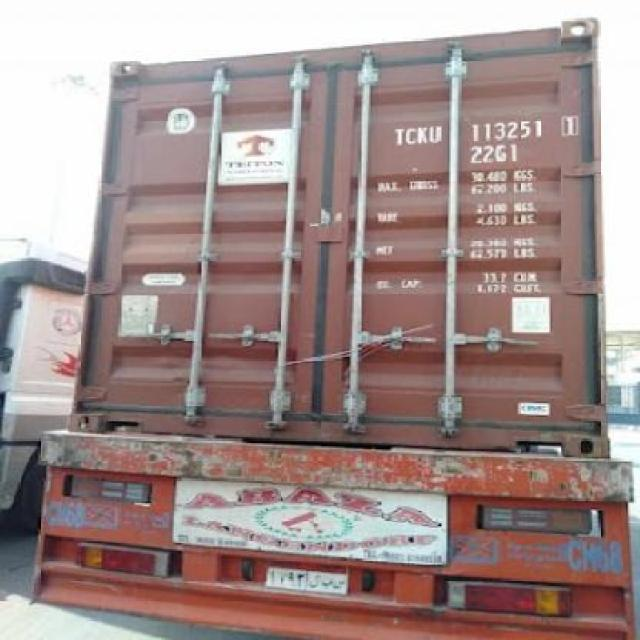ISO: (472, 144, 518, 164)
container_number: (393, 114, 578, 148)
